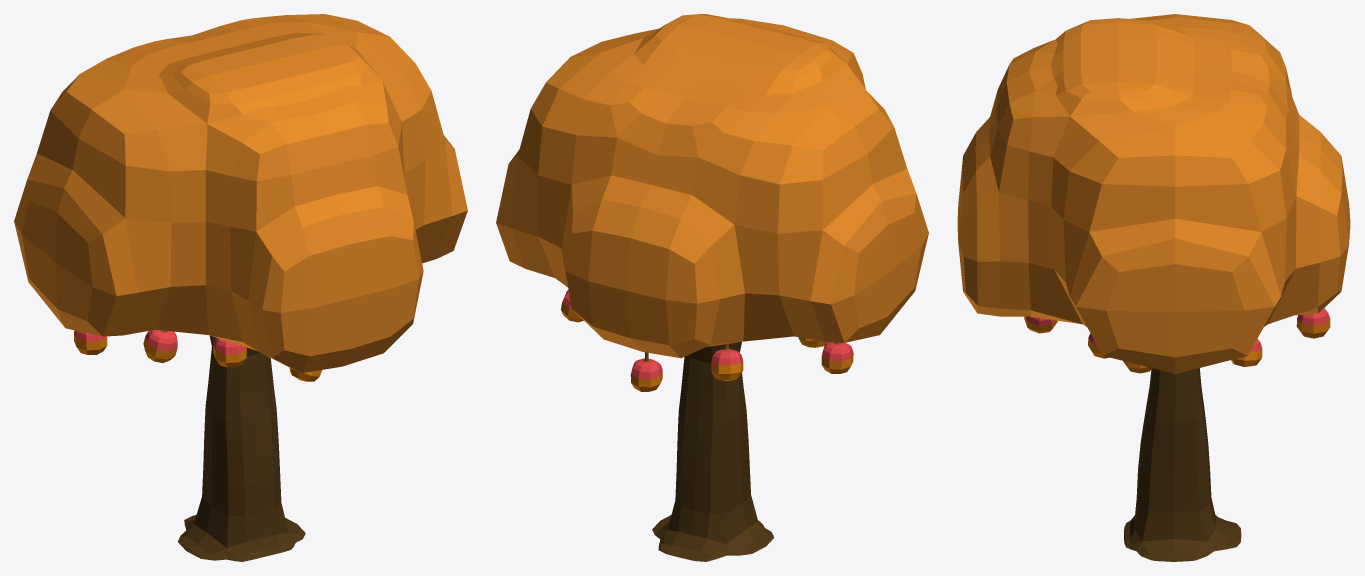
Rendered from caramelappletree 1.fbx.
3 renders of one model, left to right at view 1: azimuth 30°, elevation 25°; view 2: azimuth 150°, elevation 25°; view 3: azimuth 270°, elevation 25°, orthographic. The views are drawn at different scales.
Visible parts, largest first — view 1: Cube; view 2: Cube; view 3: Cube.
Part boxes in pixels (box(x1,y1,x2,y2)): Cube: box(14, 14, 467, 561); Cube: box(496, 14, 928, 561); Cube: box(957, 14, 1350, 561).
Bounding box in the file's own units: 2123 × 2727 × 2000.
